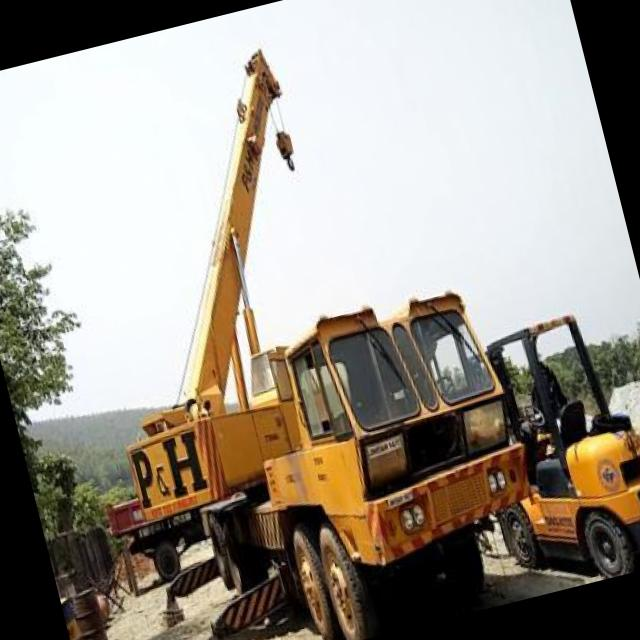Mobile Crane: (10, 14, 547, 640)
